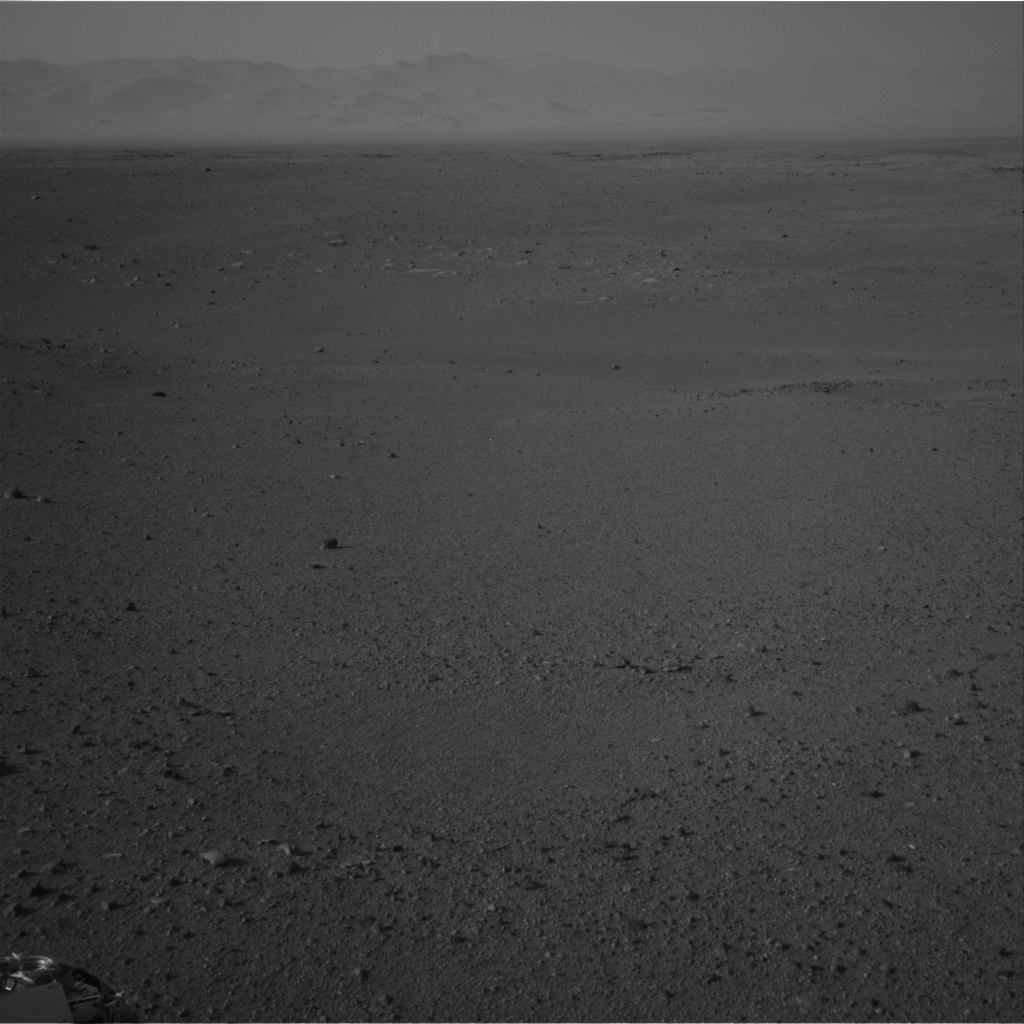soil: (3, 310, 1020, 1019)
